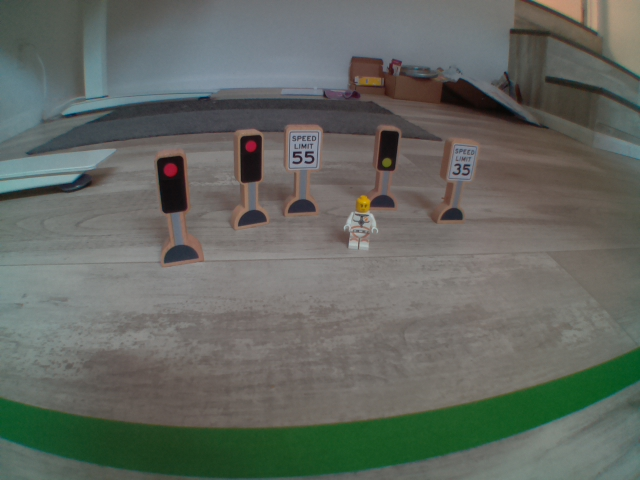Green Traffic Light: (371, 120, 401, 178)
Red Traffic Light: (154, 150, 194, 214), (236, 130, 265, 187)
Speed Limit 35: (436, 135, 485, 189)
Speed Limit 55: (285, 124, 323, 170)
person: (338, 192, 383, 255)
